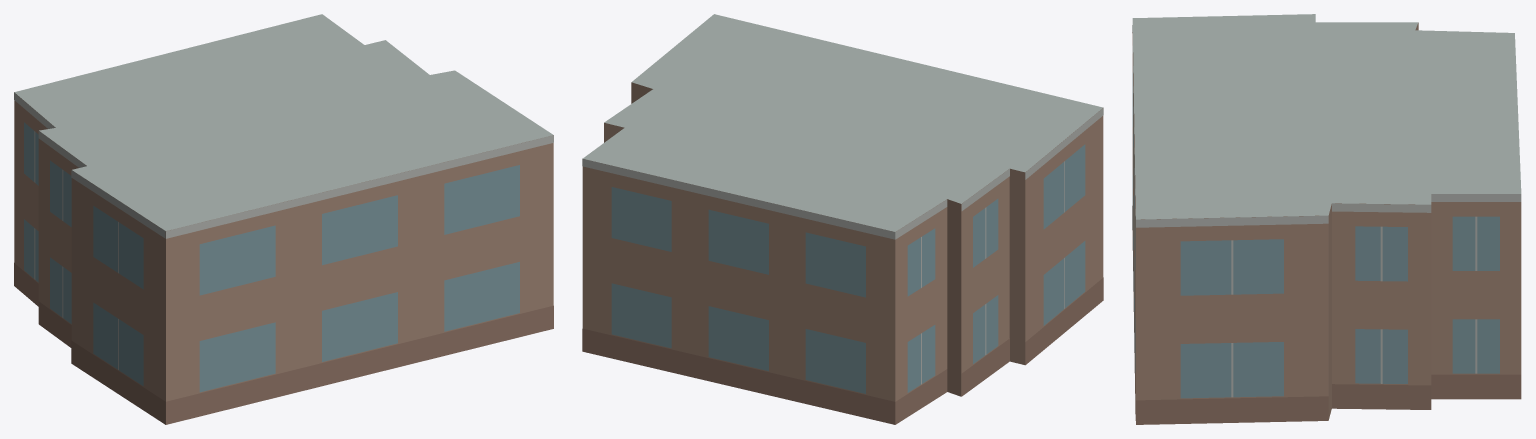
The model's file is survey-upis-32832420.glb.
The picture shows the model from 3 angles, left to right: view 1: azimuth 30°, elevation 25°; view 2: azimuth 150°, elevation 25°; view 3: azimuth 270°, elevation 25°; orthographic projection. The views are drawn at different scales.
Visible parts, largest first — view 1: survey-upis-32832420.tmp; view 2: survey-upis-32832420.tmp; view 3: survey-upis-32832420.tmp.
Boxes of the visible parts, left/top/right/bottom form: survey-upis-32832420.tmp: left=14, top=14, right=553, bottom=424; survey-upis-32832420.tmp: left=582, top=14, right=1103, bottom=424; survey-upis-32832420.tmp: left=1132, top=14, right=1521, bottom=424.
Bounding box in the file's own units: 13.11 × 6.1 × 10.48.
